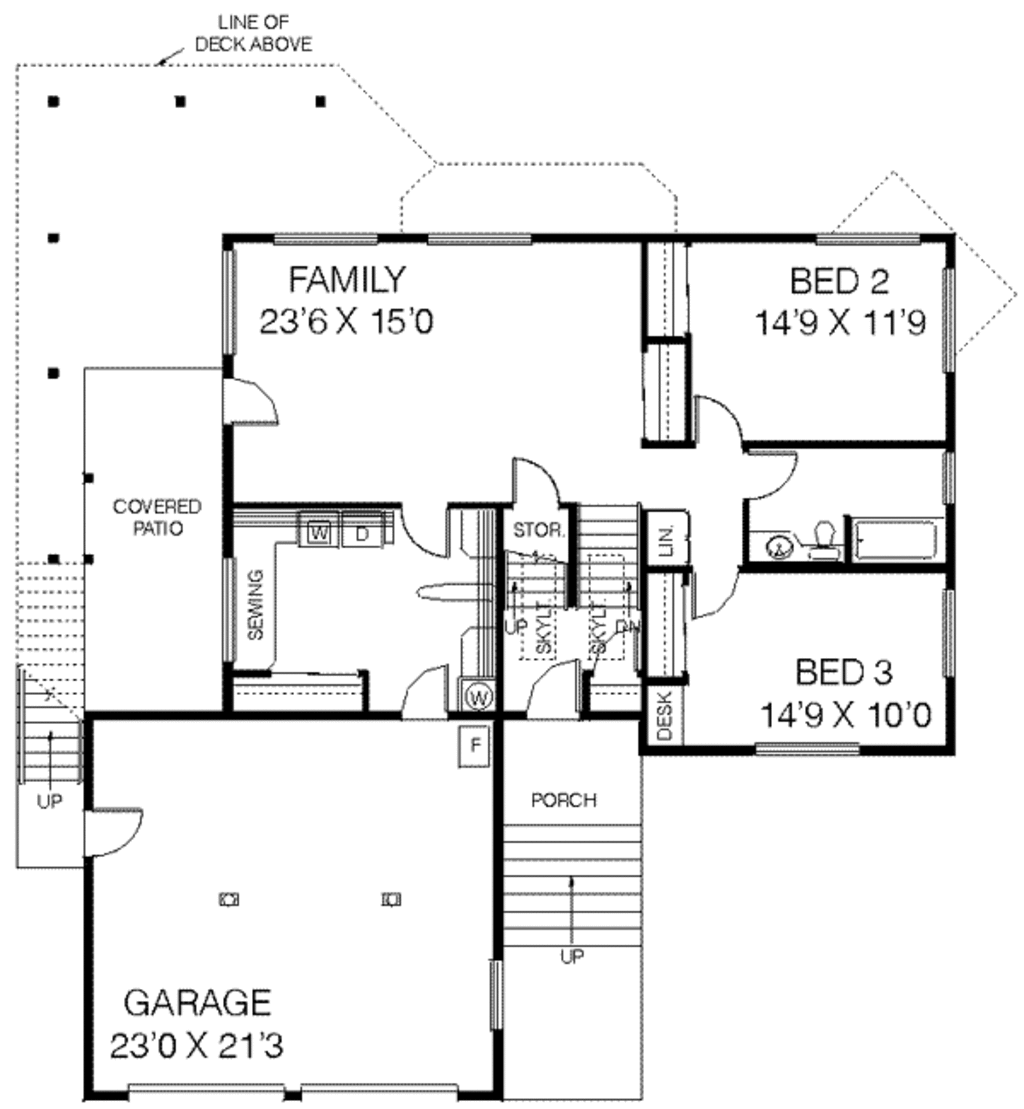door: (515, 655, 594, 719), (389, 495, 463, 560), (687, 388, 749, 452), (742, 440, 806, 500), (221, 371, 285, 429), (506, 455, 561, 521), (70, 812, 149, 857), (397, 667, 454, 729), (585, 631, 640, 681), (692, 565, 732, 617)
large_sink: (804, 517, 842, 565)
small_sink: (754, 527, 802, 559)
stairs: (504, 719, 654, 955), (6, 553, 87, 871), (513, 495, 627, 660)
window: (937, 271, 971, 376), (930, 584, 961, 681), (220, 555, 244, 669), (266, 231, 387, 253), (425, 229, 534, 252), (484, 959, 513, 1045), (746, 740, 861, 759), (799, 231, 923, 248), (932, 448, 961, 509)
